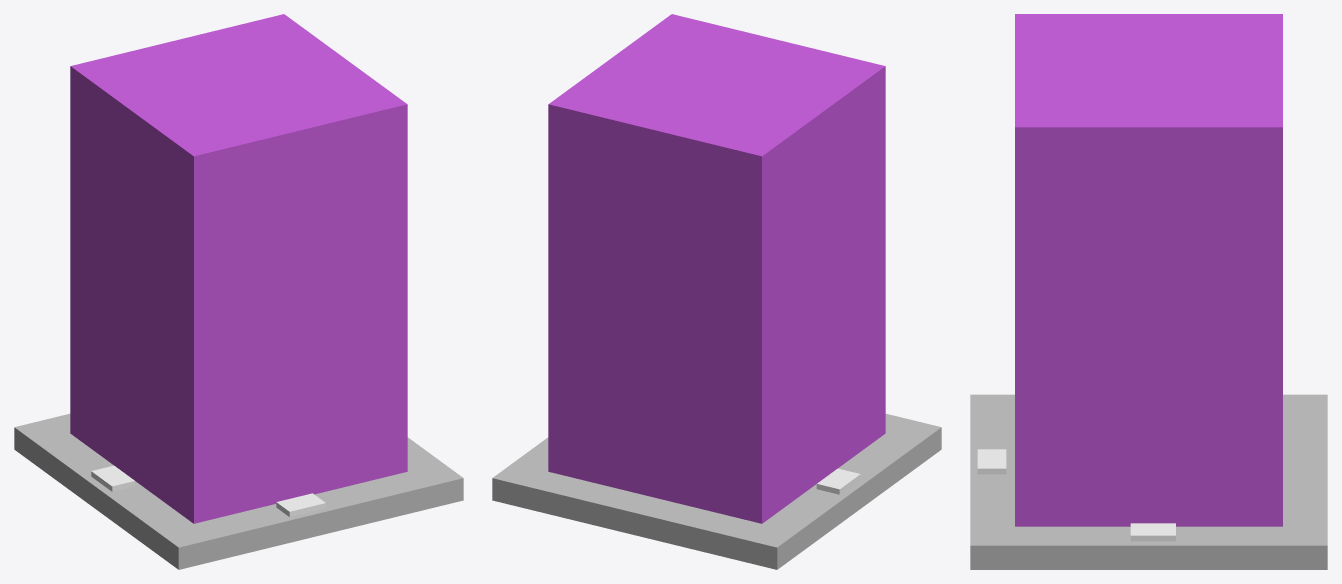
The model's file is building3(2).fbx.
3 views of the same model, side by side, from view 1: azimuth 30°, elevation 25°; view 2: azimuth 150°, elevation 25°; view 3: azimuth 270°, elevation 25° (orthographic). The views are drawn at different scales.
Visible parts, largest first — view 1: Empty_Tile.012, Empty_Tile.011, Empty_Tile.010, Empty_Tile.013; view 2: Empty_Tile.012, Empty_Tile.011, Empty_Tile.013; view 3: Empty_Tile.012, Empty_Tile.011, Empty_Tile.015, Empty_Tile.010.
Part boxes in pixels (x1,y1,x2,y2): Empty_Tile.012: (70,14,407,523); Empty_Tile.011: (14,413,463,569); Empty_Tile.010: (276,493,325,516); Empty_Tile.013: (91,465,134,491); Empty_Tile.012: (548,14,885,523); Empty_Tile.011: (492,413,941,569); Empty_Tile.013: (816,468,860,494); Empty_Tile.012: (1015,14,1282,526); Empty_Tile.011: (970,394,1327,569); Empty_Tile.015: (1130,523,1175,541); Empty_Tile.010: (977,449,1006,474).
Size of the model in its own units: 800 by 1046 by 800.
